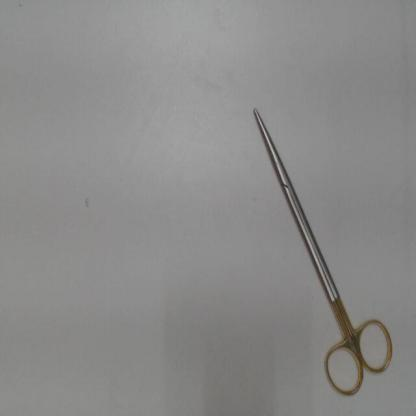7 Metzenbaum Scissors: (251, 102, 398, 402)
